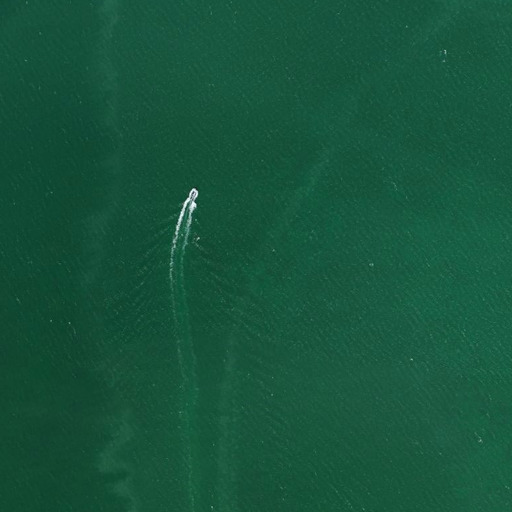ship: (190, 192, 195, 202)
